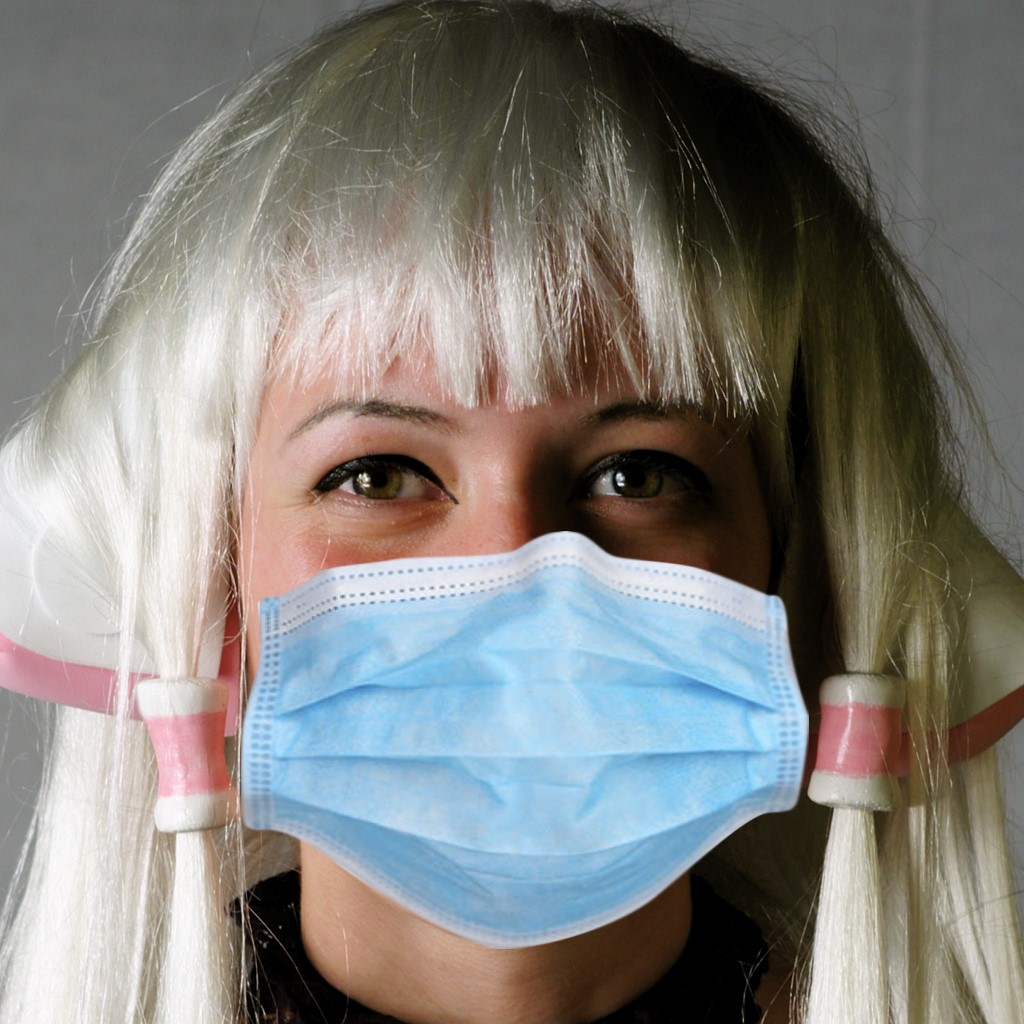con_mascara: (213, 173, 840, 909)
